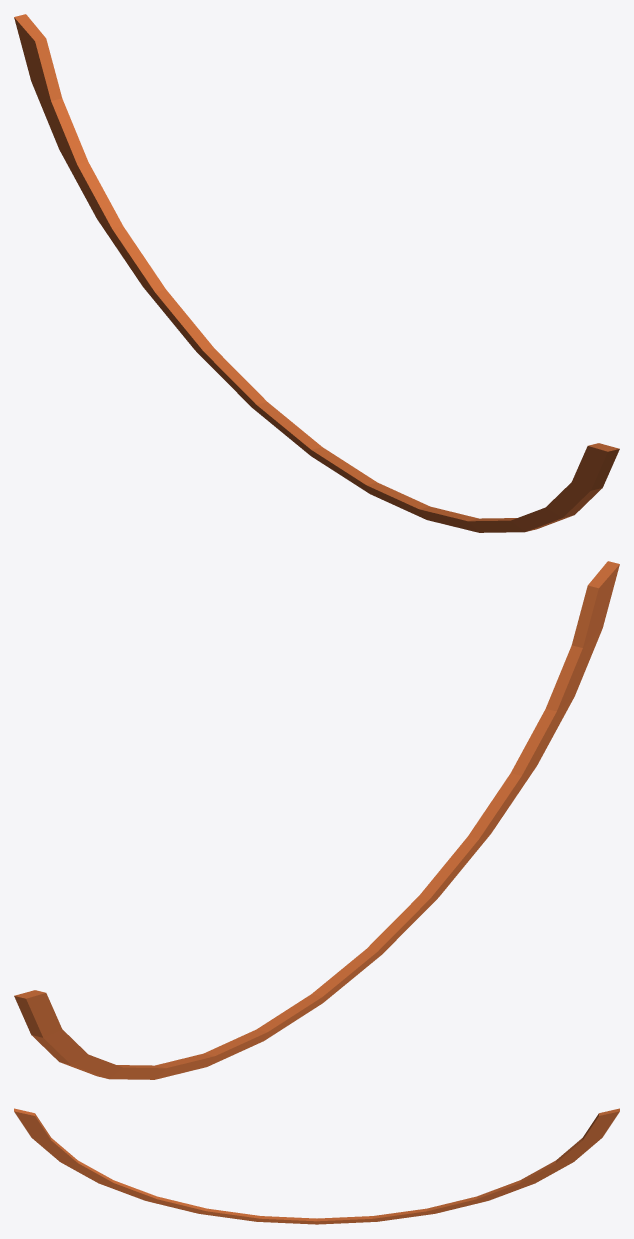
The model's file is bow.dae.
The picture shows the model from 3 angles, top to bottom: view 1: azimuth 30°, elevation 25°; view 2: azimuth 150°, elevation 25°; view 3: azimuth 270°, elevation 25°; orthographic projection. The views are drawn at different scales.
Visible parts, largest first — view 1: Circle.001; view 2: Circle.001; view 3: Circle.001.
Boxes of the visible parts, x1,y1,x2,y2 form: Circle.001: [14, 14, 619, 532]; Circle.001: [14, 561, 619, 1079]; Circle.001: [14, 1108, 619, 1224].
Size of the model in its own units: 0.01 by 0.8517 by 0.1755.
